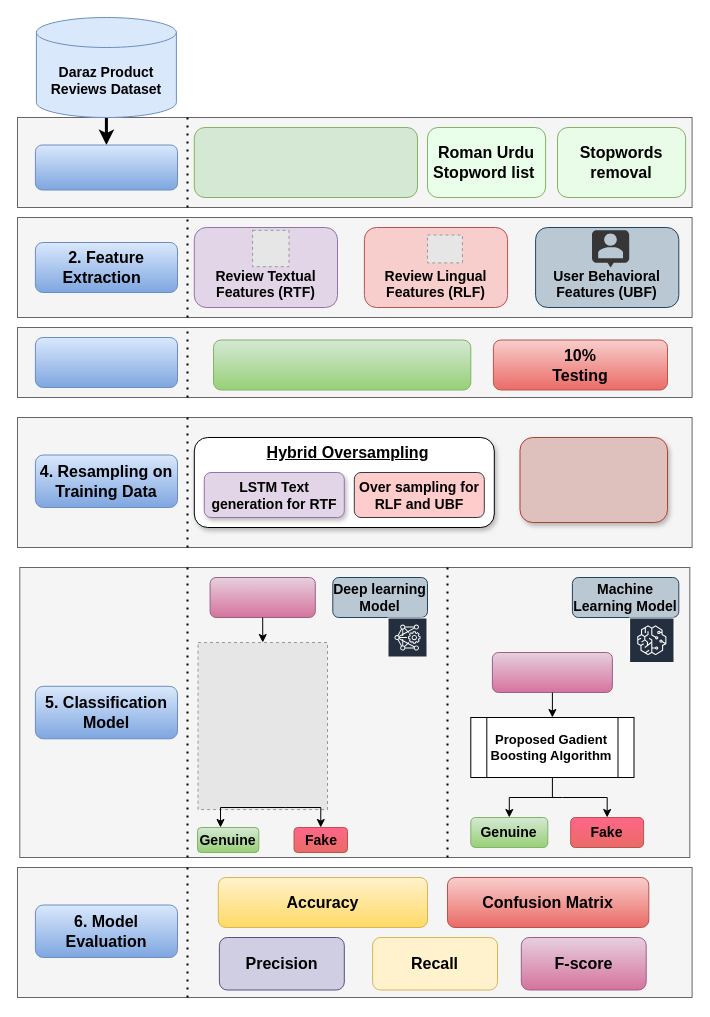
The diagram is 710 pixels wide and 1017 high, and some of its shapes have lost their labels. Grey dashed boxes stand in for pictures. The centre of each missing label's shape, as x and y in pixels:
"1. Text Preprocessing" belongs at [106,167].
"3. Data Split" belongs at [106,362].
"90% Training and Validation" belongs at [341,364].
"Remove special characters, white space, and single character words" belongs at [305,162].
"RLF+UBF" belongs at [551,672].
"RTF, RLF, UBF" belongs at [262,597].
"Under Sampling RTF, RLF and UBF" belongs at [594,481].
